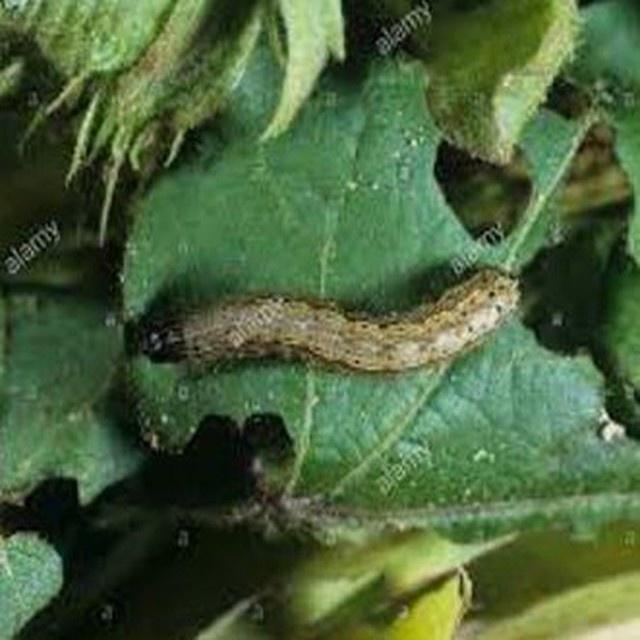gusano_cogollero: (132, 257, 526, 380)
